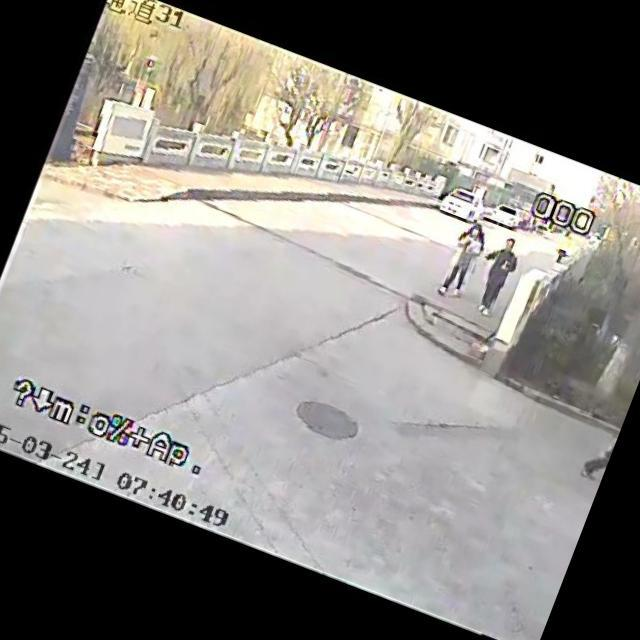person: (464, 230, 528, 318), (434, 217, 494, 304)
